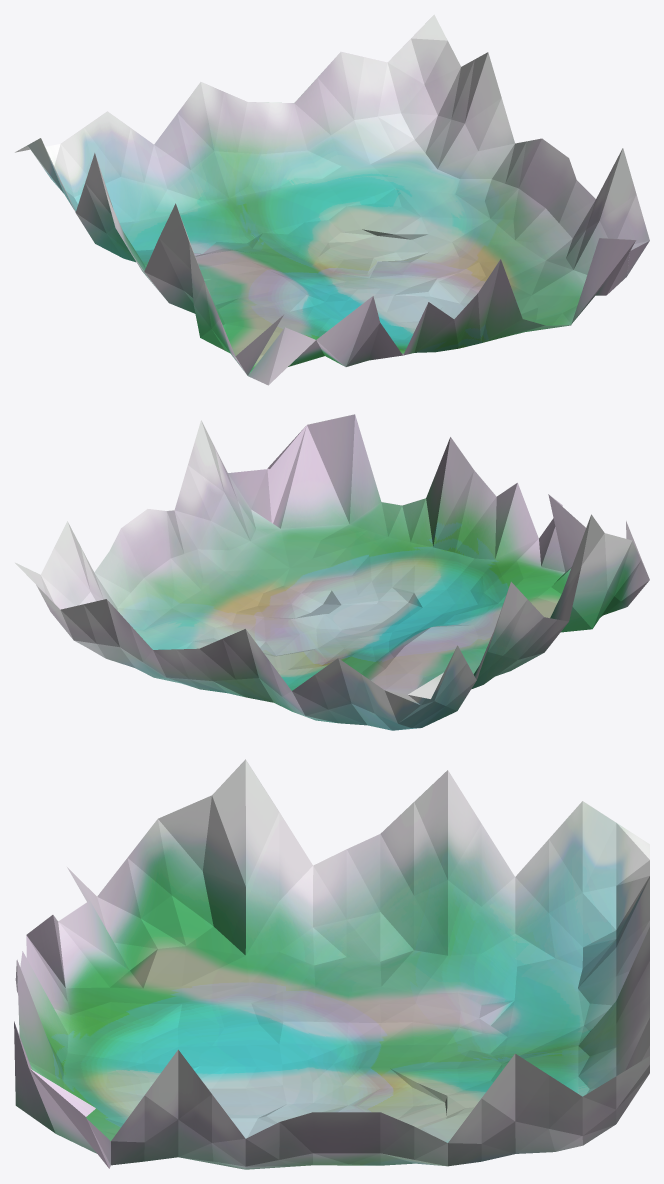
Rendered from terrain.dae.
3 renders of one model, top to bottom at view 1: azimuth 30°, elevation 25°; view 2: azimuth 150°, elevation 25°; view 3: azimuth 270°, elevation 25°, orthographic. The views are drawn at different scales.
Visible parts, largest first — view 1: Grid; view 2: Grid; view 3: Grid.
Boxes of the visible parts, left/top/right/bottom form: Grid: left=15, top=14, right=649, bottom=385; Grid: left=15, top=414, right=649, bottom=730; Grid: left=14, top=759, right=649, bottom=1169.
Size of the model in its own units: 203 by 210 by 77.03.
1 material, 1 textured.
